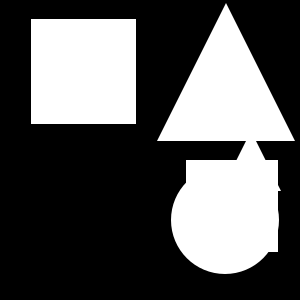circle: (31, 19, 136, 124), (186, 160, 278, 252)
rectangle: (171, 166, 279, 274)
triangle: (157, 3, 295, 141), (221, 131, 281, 191)
